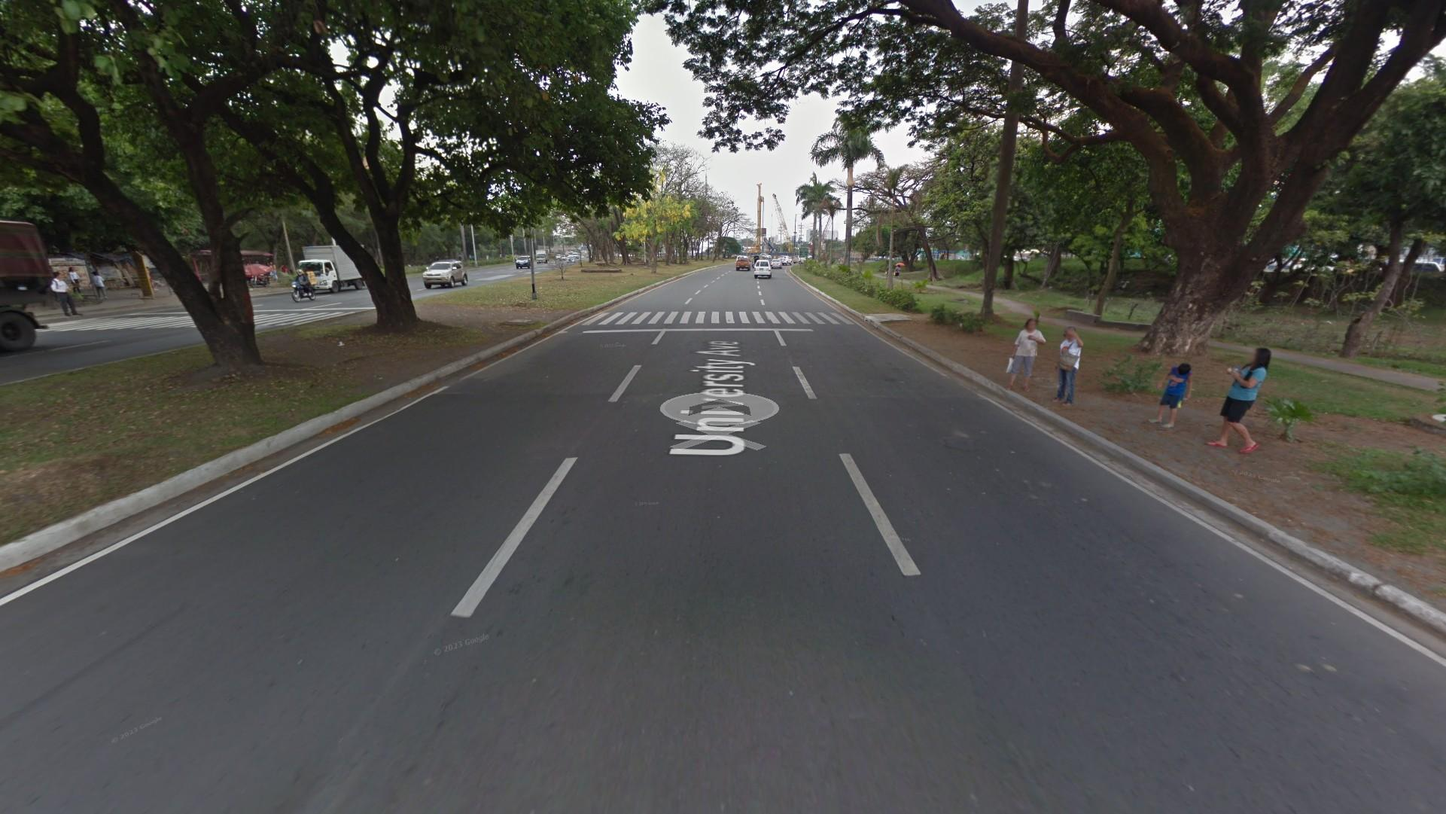pedestrian: (1204, 345, 1272, 455), (1005, 317, 1047, 392), (1147, 360, 1193, 428), (1050, 326, 1085, 407), (50, 270, 84, 317), (88, 269, 110, 301), (67, 265, 83, 296), (268, 260, 278, 282), (280, 263, 287, 281), (894, 264, 901, 279)
